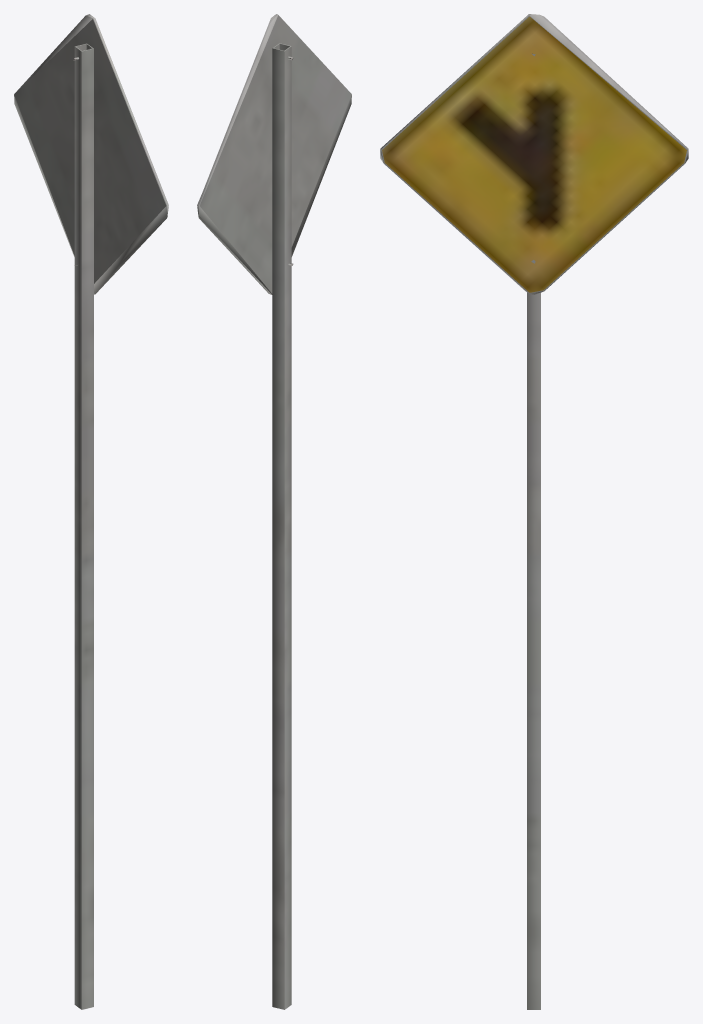
The model's file is sign-curve.lod1.glb.
The picture shows the model from 3 angles, left to right: view 1: azimuth 30°, elevation 25°; view 2: azimuth 150°, elevation 25°; view 3: azimuth 270°, elevation 25°; orthographic projection.
Parts seen in each view (by area): view 1: povorot_LOW_POLY_sign_0; view 2: povorot_LOW_POLY_sign_0; view 3: povorot_LOW_POLY_sign_0.
Part boxes in pixels (x1,y1,x2,y2): povorot_LOW_POLY_sign_0: (14, 14, 168, 1009); povorot_LOW_POLY_sign_0: (197, 14, 351, 1009); povorot_LOW_POLY_sign_0: (380, 14, 688, 1009).
Bounding box in the file's own units: 0.0558 × 2.6 × 0.7281.
Materials: 1 (1 with a texture image).
